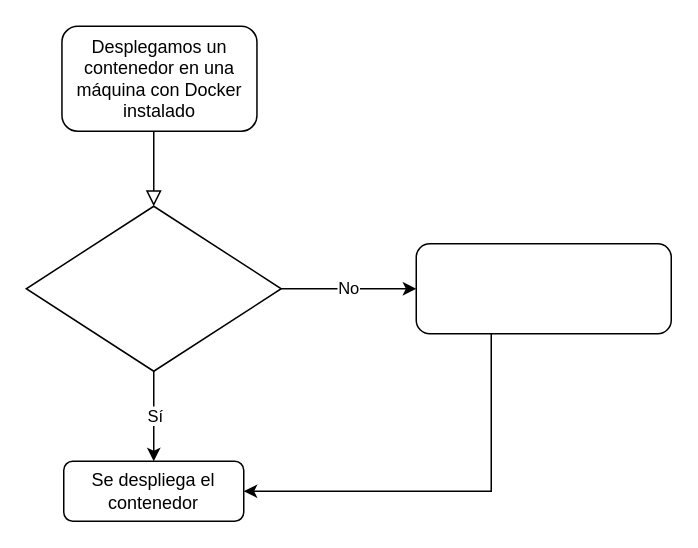
Some shapes in this 698 by 548 pixel diagram are drawn without their labels. The centre of each missing label's shape, as x and y in pixels:
"Descarga la imagen de Docker Hub o de otro registry que le especifiquemos" belongs at pixel 543 288.
"¿Existe la imagen en el registry local y contiene la misma etiqueta?" belongs at pixel 153 288.
